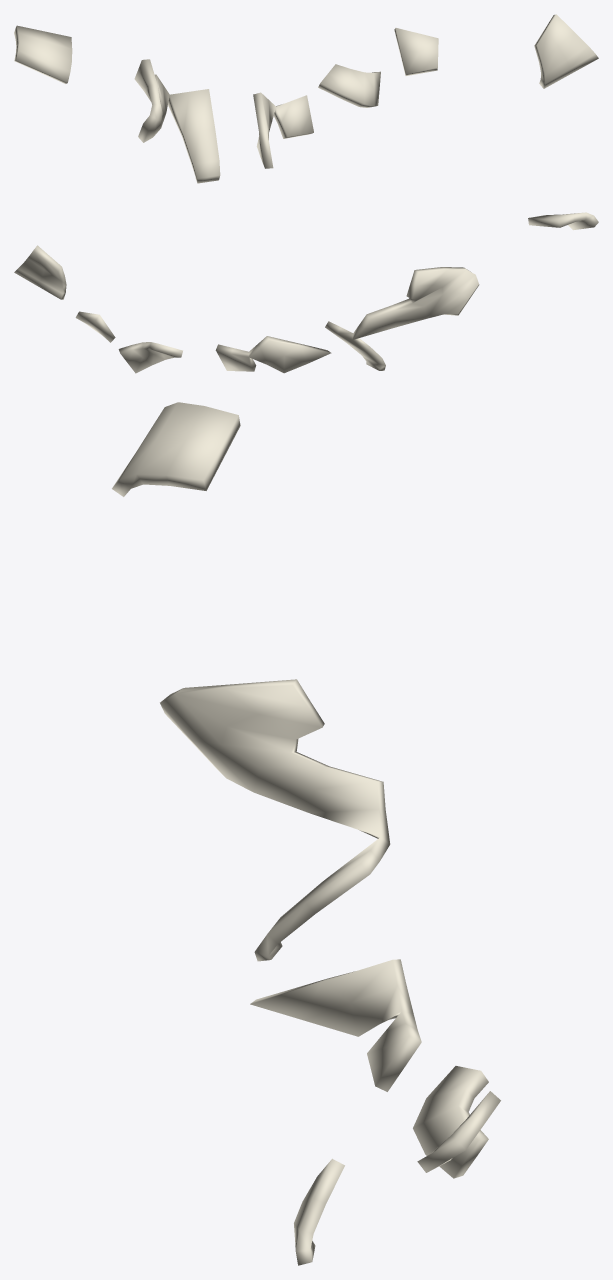
3 renders of one model, top to bottom at view 1: azimuth 30°, elevation 25°; view 2: azimuth 150°, elevation 25°; view 3: azimuth 270°, elevation 25°, orthographic. The views are drawn at different scales.
Visible parts, largest first — view 1: ZA_6dfebb45fa60ff2c; view 2: ZA_6dfebb45fa60ff2c; view 3: ZA_6dfebb45fa60ff2c.
Part boxes in pixels (left/top/right/bottom): ZA_6dfebb45fa60ff2c: left=14, top=14, right=598, bottom=183; ZA_6dfebb45fa60ff2c: left=14, top=212, right=598, bottom=373; ZA_6dfebb45fa60ff2c: left=112, top=402, right=500, bottom=1265.
Bounding box in the file's own units: 0.0429 × 0.0152 × 0.0132.
